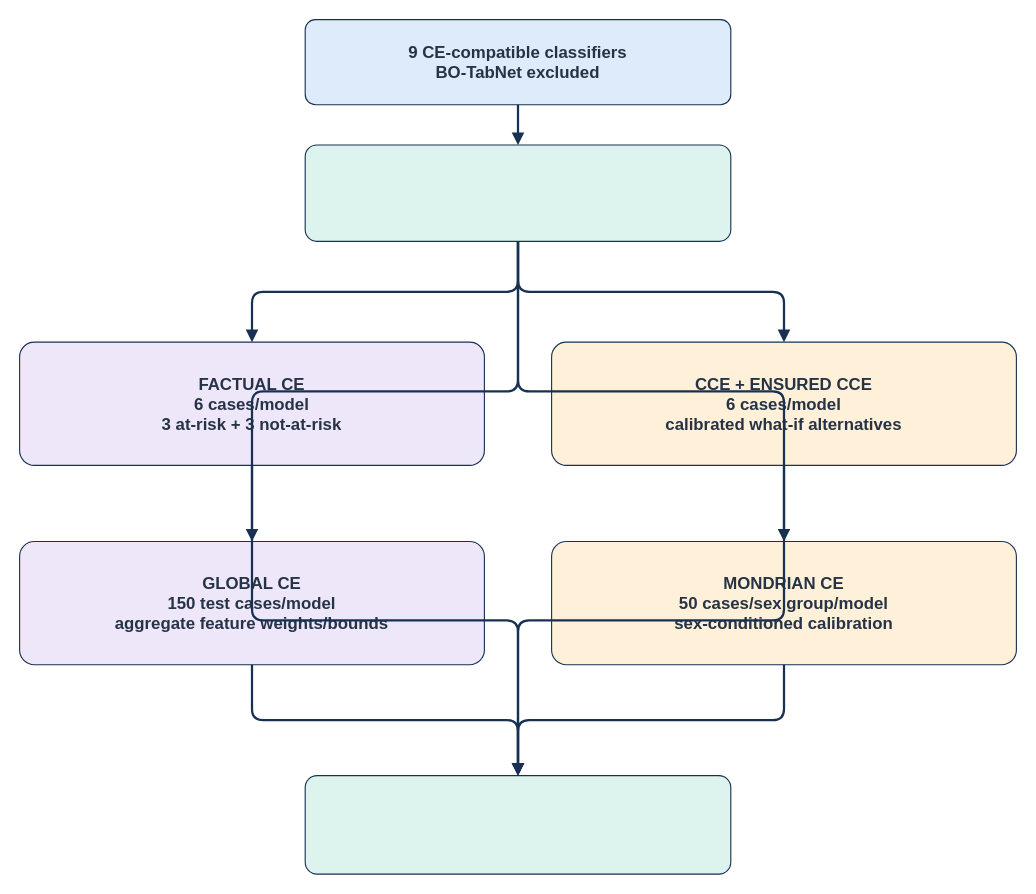
The diagram is 1036 pixels wide and 894 high, and some of its shapes have lost their labels. Each missing label, with the centre of its shape:
"MAIN_CE_OUTPUT/ factual · counterfactual · global · mondrian" belongs at [517,824].
"Validation partition → Venn–Abers CE Test partition → explanation requests" belongs at [517,192].
